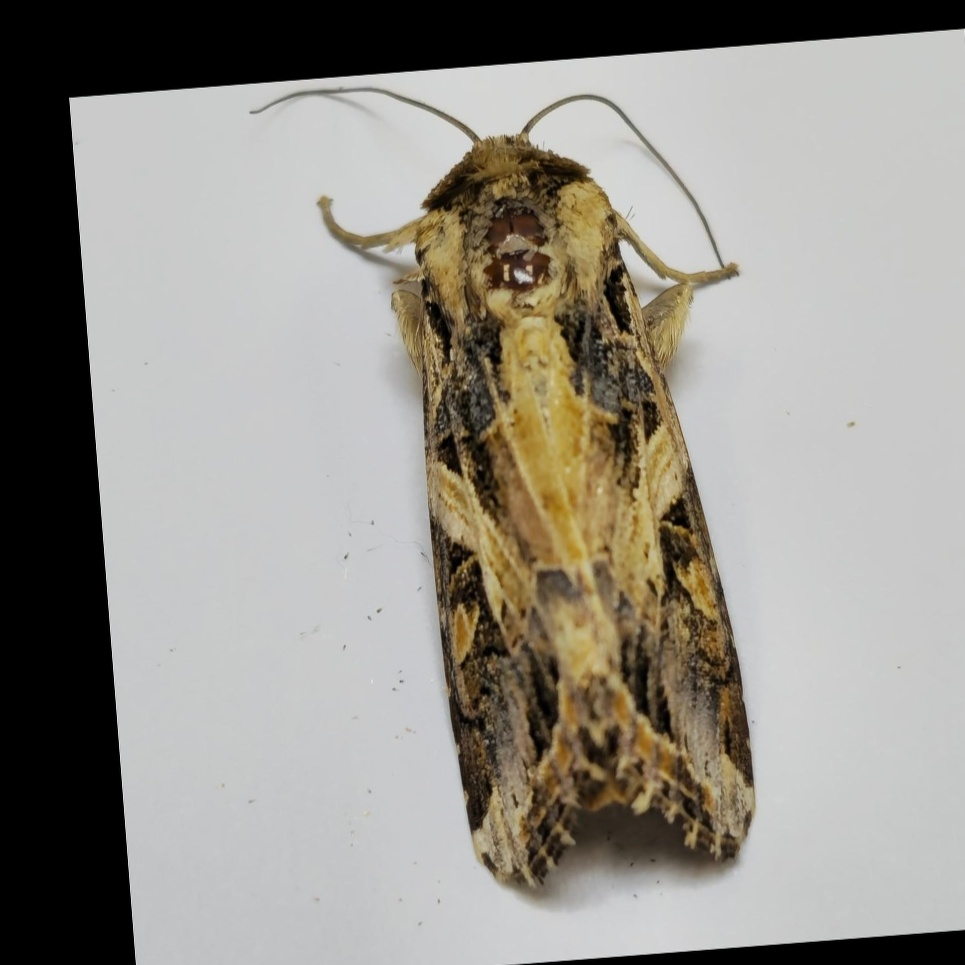Spodoptera litura: (276, 75, 753, 891)
